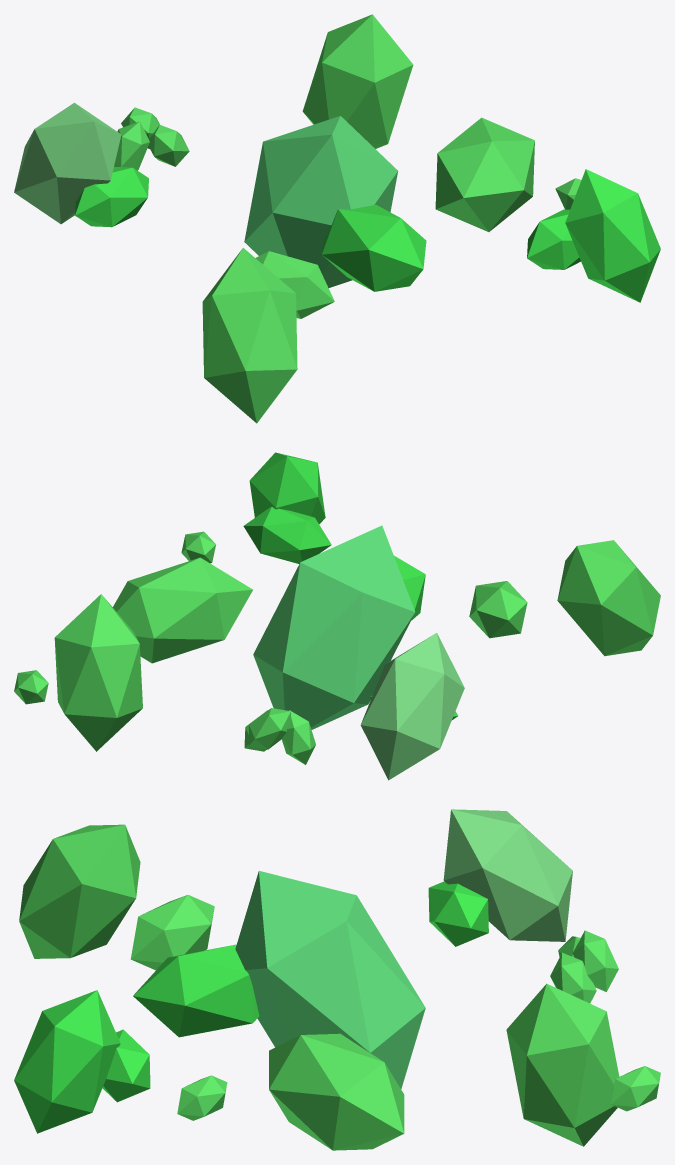
File: Green.fbx
The picture shows the model from 3 angles, top to bottom: view 1: azimuth 30°, elevation 25°; view 2: azimuth 150°, elevation 25°; view 3: azimuth 270°, elevation 25°; orthographic projection. The views are drawn at different scales.
Parts seen in each view (by area): view 1: Icosphere.006, Icosphere.003, Icosphere.002, Icosphere.009, Icosphere.005, Icosphere.001, Icosphere.007, Icosphere.008, Icosphere.010, Icosphere.004, Icosphere.015, Icosphere.012; view 2: Icosphere.006, Icosphere.002, Icosphere.009, Icosphere.001, Icosphere.003, Icosphere.005, Icosphere.004, Icosphere.010, Icosphere.014, Icosphere.015, Icosphere.011, Icosphere.007 (+1 smaller); view 3: Icosphere.006, Icosphere.002, Icosphere.003, Icosphere.009, Icosphere.001, Icosphere.005, Icosphere.007, Icosphere.010, Icosphere.008, Icosphere.004, Icosphere.014, Icosphere.013 (+2 smaller).
Part boxes in pixels (x1,y1,x2,y2): Icosphere.006: (244, 116, 397, 287); Icosphere.003: (202, 248, 297, 423); Icosphere.002: (302, 14, 413, 148); Icosphere.009: (435, 117, 534, 231); Icosphere.005: (565, 169, 660, 302); Icosphere.001: (14, 102, 121, 224); Icosphere.007: (322, 204, 426, 291); Icosphere.008: (75, 166, 148, 227); Icosphere.010: (255, 251, 334, 318); Icosphere.004: (527, 209, 580, 269); Icosphere.015: (114, 121, 149, 170); Icosphere.012: (148, 125, 189, 166); Icosphere.006: (253, 525, 415, 729); Icosphere.002: (54, 594, 142, 751); Icosphere.009: (113, 557, 252, 663); Icosphere.001: (360, 633, 464, 780); Icosphere.003: (557, 540, 660, 656); Icosphere.005: (249, 452, 325, 524); Icosphere.004: (243, 506, 331, 563); Icosphere.010: (469, 581, 527, 638); Icosphere.014: (248, 708, 290, 749); Icosphere.015: (282, 710, 315, 764); Icosphere.011: (14, 670, 48, 704); Icosphere.007: (394, 555, 425, 620); Icosphere.006: (235, 871, 425, 1088); Icosphere.002: (506, 983, 619, 1146); Icosphere.003: (19, 824, 140, 958); Icosphere.009: (269, 1033, 404, 1150); Icosphere.001: (443, 809, 572, 941); Icosphere.005: (14, 990, 120, 1133); Icosphere.007: (133, 944, 259, 1037); Icosphere.010: (130, 895, 214, 970); Icosphere.008: (428, 881, 488, 946); Icosphere.004: (102, 1029, 150, 1102); Icosphere.014: (572, 930, 618, 991); Icosphere.013: (177, 1075, 227, 1120).
Bounding box in the file's own units: 613 × 257 × 696.
